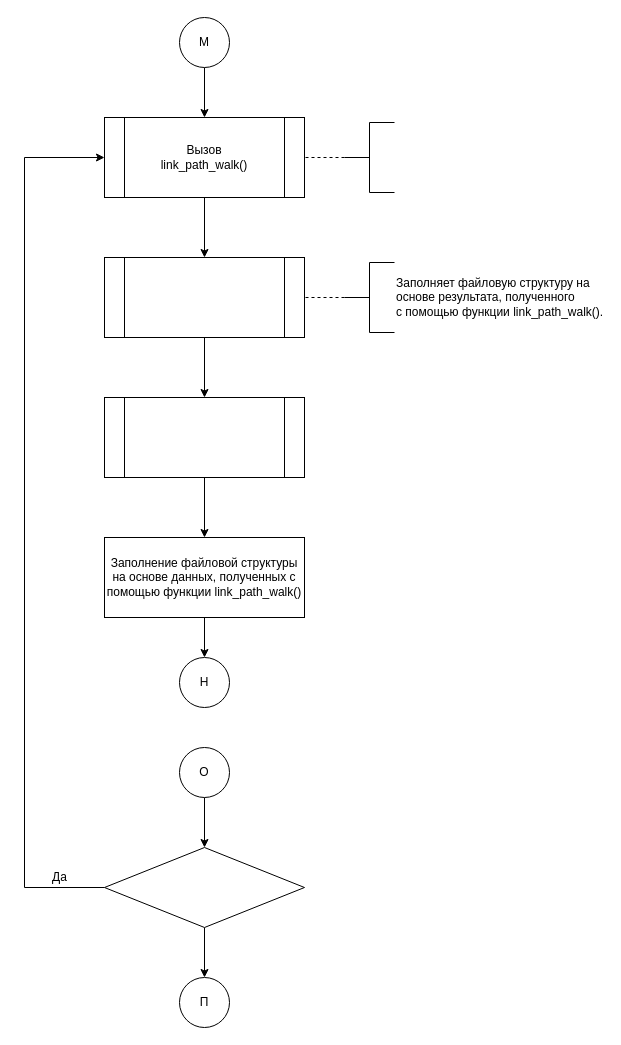
Image size: 621x1045. Some labels were removed from this diagram. The shapes that lost their labels are listed below. From the top down, each one's centre as x and y in pixels, then its label:
At point 369,157: "Определяет положение элемента католога в дереве каталогов.".
At point 204,297: "Вызов do_last()".
At point 204,437: "Вызов lookup_open()".
At point 204,887: "Остались компоненты пути".
